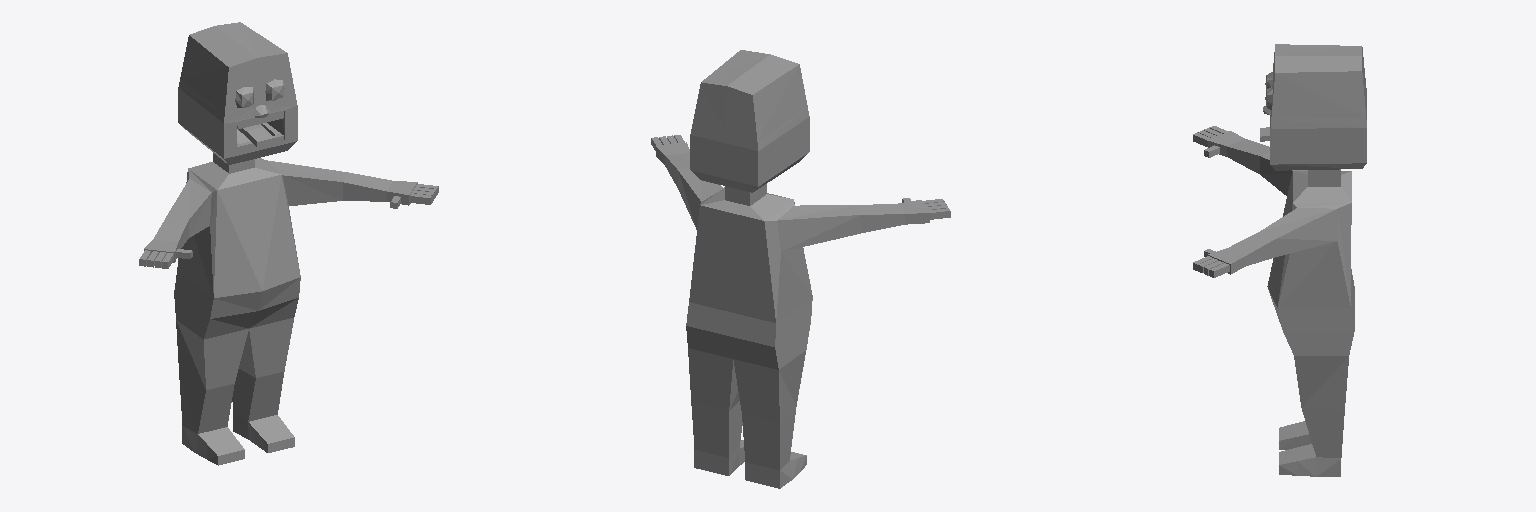
Rendered from ZombieCharacter.obj.
The picture shows the model from 3 angles: view 1: azimuth 30°, elevation 25°; view 2: azimuth 150°, elevation 25°; view 3: azimuth 270°, elevation 25°; orthographic projection.
Visible parts, largest first — view 1: Cube.001, Cube.000; view 2: Cube.001; view 3: Cube.001.
Part boxes in pixels (x1,y1,x2,y2): Cube.001: (139,22,438,465); Cube.000: (235,79,284,107); Cube.001: (651,50,950,488); Cube.001: (1193,44,1366,476).
Size of the model in its own units: 5.12 by 6.54 by 2.58.